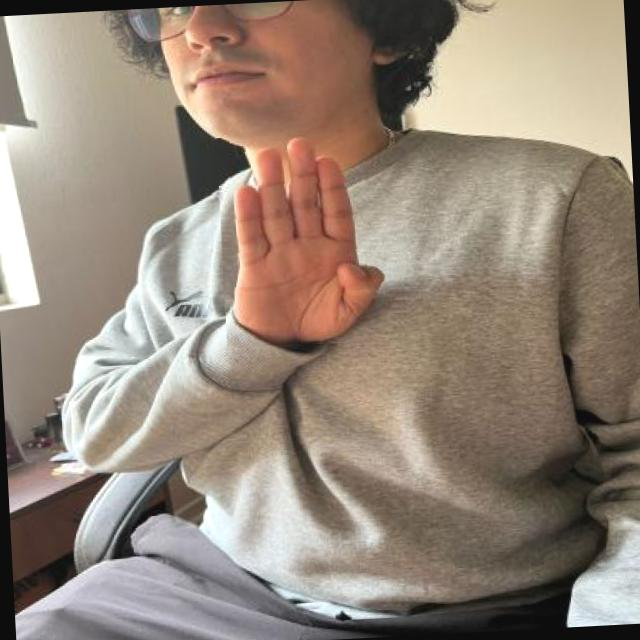B: (216, 129, 410, 350)
